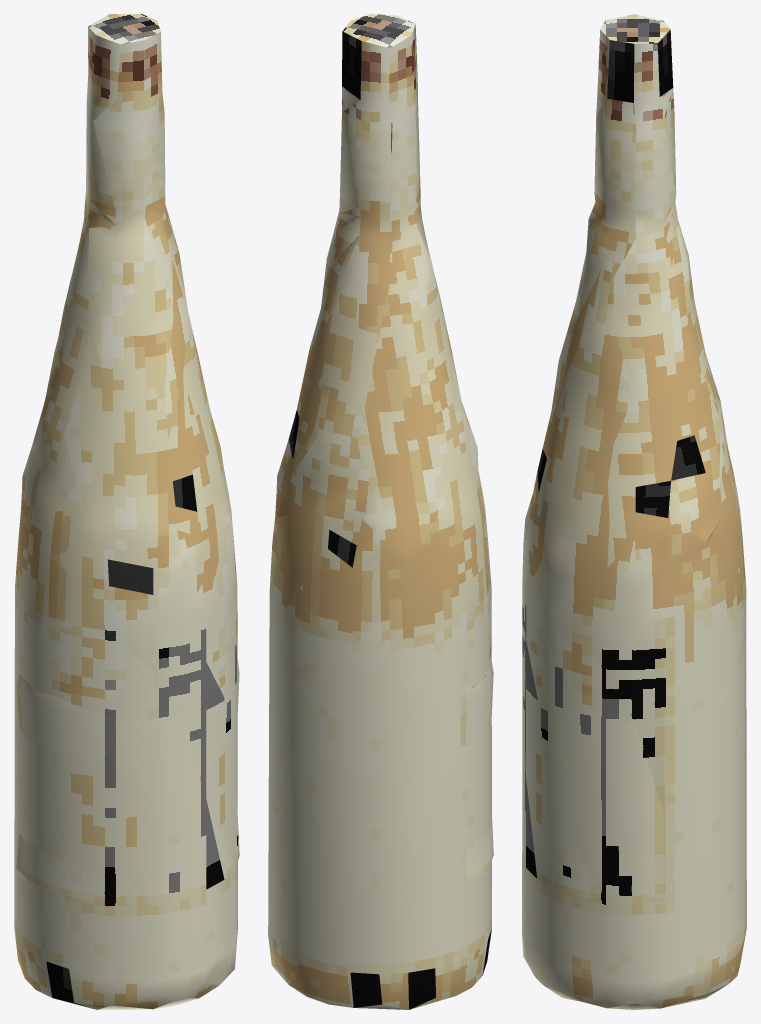
Rendered from wine_bottle_alsace.glb.
The picture shows the model from 3 angles, left to right: view 1: azimuth 30°, elevation 25°; view 2: azimuth 150°, elevation 25°; view 3: azimuth 270°, elevation 25°; orthographic projection.
Visible parts, largest first — view 1: body; view 2: body; view 3: body.
Boxes of the visible parts, x1,y1,x2,y2 form: body: [14, 14, 239, 1009]; body: [268, 14, 493, 1009]; body: [522, 14, 746, 1009].
Bounding box in the file's own units: 0.0724 × 0.3314 × 0.0719.
Materials: 1 (1 with a texture image).
